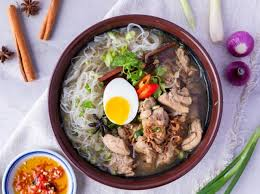soto: (3, 1, 225, 194)
